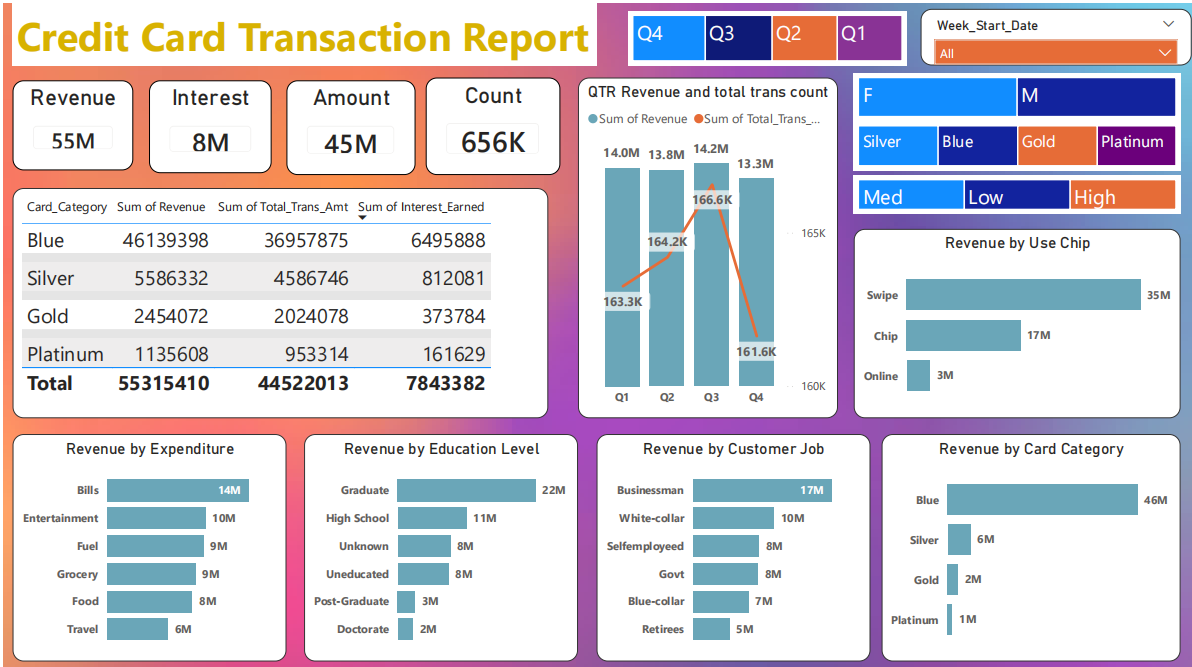

What the dashboard file says about the page in this screenshot:
{"tool":"powerbi","page":{"name":"CC Transcation","canvas":[1280,720],"ordinal":0},"visuals":[{"type":"textbox","box":[9.5,0,629.9,66.8],"z":0},{"type":"lineStackedColumnComboChart","title":"QTR Revenue and total trans count","fields":{"Category":["credit_card.Qtr"],"Y":["Sum(credit_card.Revenue)"],"Y2":["Sum(credit_card.Total_Trans_Vol)"]},"box":[618.7,79.5,279.9,367.4],"z":1000},{"type":"barChart","title":"Revenue by Expenditure","fields":{"Category":["credit_card.Exp Type"],"Y":["Sum(credit_card.Revenue)"]},"box":[9.5,464.5,295.9,245],"z":2000},{"type":"barChart","title":"Revenue by Education Level","fields":{"Y":["Sum(credit_card.Revenue)"],"Category":["customer.Education_Level"]},"box":[324.5,464.5,294.3,245],"z":3000},{"type":"barChart","title":"Revenue by Customer Job ","fields":{"Y":["Sum(credit_card.Revenue)"],"Category":["customer.Customer_Job"]},"box":[639.4,464.5,294.3,245],"z":4000},{"type":"barChart","title":"Revenue by Card Category","fields":{"Y":["Sum(credit_card.Revenue)"],"Category":["credit_card.Card_Category"]},"box":[946.4,464.5,321.3,245],"z":5000},{"type":"barChart","title":"Revenue by Use Chip","fields":{"Y":["Sum(credit_card.Revenue)"],"Category":["credit_card.Use Chip"]},"box":[916.2,243.4,351.5,203.6],"z":6000},{"type":"tableEx","fields":{"Values":["credit_card.Card_Category","Sum(credit_card.Revenue)","Sum(credit_card.Total_Trans_Amt)","Sum(credit_card.Interest_Earned)"]},"box":[9.5,198.8,577.4,248.1],"z":7000},{"type":"cardVisual","title":"Revenue","fields":{"Data":["Sum(credit_card.Revenue)"]},"box":[9.5,82.7,130.4,97],"z":8000},{"type":"cardVisual","title":"Interest","fields":{"Data":["Sum(credit_card.Interest_Earned)"]},"box":[157.5,82.7,132,100.2],"z":9000},{"type":"cardVisual","title":" Amount","fields":{"Data":["Sum(credit_card.Total_Trans_Amt)"]},"box":[305.4,82.7,138.4,101.8],"z":10000},{"type":"cardVisual","title":"Count","fields":{"Data":["Sum(credit_card.Total_Trans_Vol)"]},"box":[454.9,79.5,144.7,105],"z":11000},{"type":"slicer","fields":{"Values":["credit_card.Week_Start_Date"]},"box":[987.8,6.4,292.7,60.4],"z":12000},{"type":"treemap","fields":{"Group":["credit_card.Qtr"],"Values":["Avg(credit_card.Client_Num)"]},"box":[672.8,8,300.6,58.9],"z":13000},{"type":"treemap","fields":{"Group":["customer.Gender"],"Values":["Avg(credit_card.Client_Num)"]},"box":[916.2,74.8,351.5,52.5],"z":14000},{"type":"treemap","fields":{"Group":["credit_card.Card_Category"],"Values":["Avg(credit_card.Client_Num)"]},"box":[916.2,127.2,351.5,52.5],"z":15000},{"type":"treemap","fields":{"Group":["customer.IncomeGroup"],"Values":["Avg(credit_card.Client_Num)"]},"box":[916.2,184.5,351.5,42.9],"z":16000}]}

Visuals, with their boxes in screenshot pixels (x1, y1, x2, y2), scaled from the page's 1280x720 canvas onto the 1192x667 screenshot:
textbox: left=9, top=0, right=595, bottom=62
"QTR Revenue and total trans count" lineStackedColumnComboChart: left=576, top=74, right=837, bottom=414
"Revenue by Expenditure" barChart: left=9, top=430, right=284, bottom=657
"Revenue by Education Level" barChart: left=302, top=430, right=576, bottom=657
"Revenue by Customer Job " barChart: left=595, top=430, right=870, bottom=657
"Revenue by Card Category" barChart: left=881, top=430, right=1181, bottom=657
"Revenue by Use Chip" barChart: left=853, top=225, right=1181, bottom=414
tableEx - credit_card.Card_Category x Sum(credit_card.Revenue): left=9, top=184, right=547, bottom=414
"Revenue" cardVisual: left=9, top=77, right=130, bottom=166
"Interest" cardVisual: left=147, top=77, right=270, bottom=169
" Amount" cardVisual: left=284, top=77, right=413, bottom=171
"Count" cardVisual: left=424, top=74, right=558, bottom=171
slicer - credit_card.Week_Start_Date: left=920, top=6, right=1191, bottom=62
treemap - credit_card.Qtr x Avg(credit_card.Client_Num): left=627, top=7, right=906, bottom=62
treemap - customer.Gender x Avg(credit_card.Client_Num): left=853, top=69, right=1181, bottom=118
treemap - credit_card.Card_Category x Avg(credit_card.Client_Num): left=853, top=118, right=1181, bottom=166
treemap - customer.IncomeGroup x Avg(credit_card.Client_Num): left=853, top=171, right=1181, bottom=211
